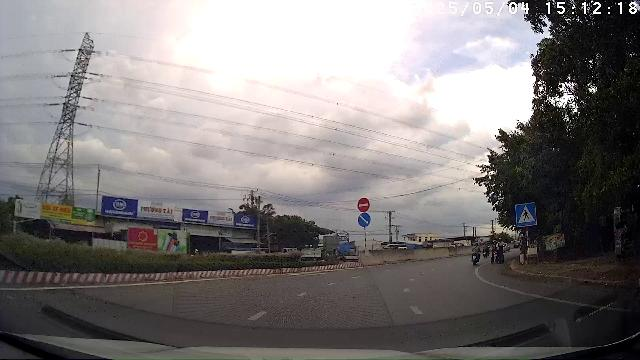102-cam-di-nguoc-chieu: (357, 197, 370, 212)
302a-huong-phai-di-vong-chuong-ngai-vat-1: (358, 212, 372, 227)
423a-duong-nguoi-di-bo-sang-ngang-1: (516, 202, 536, 226)
